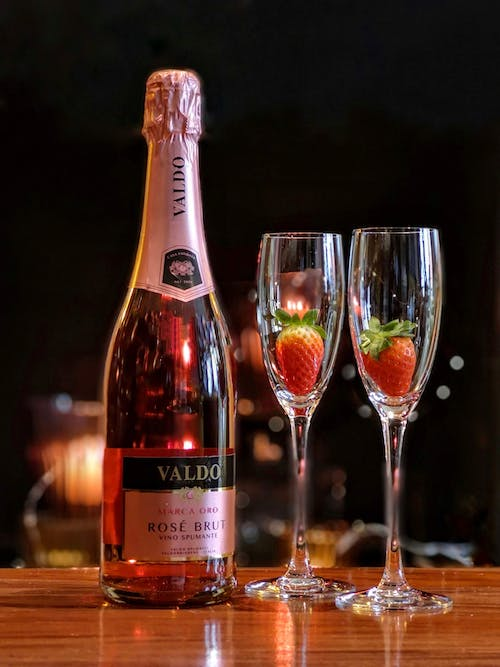alcohol: (99, 66, 238, 610)
